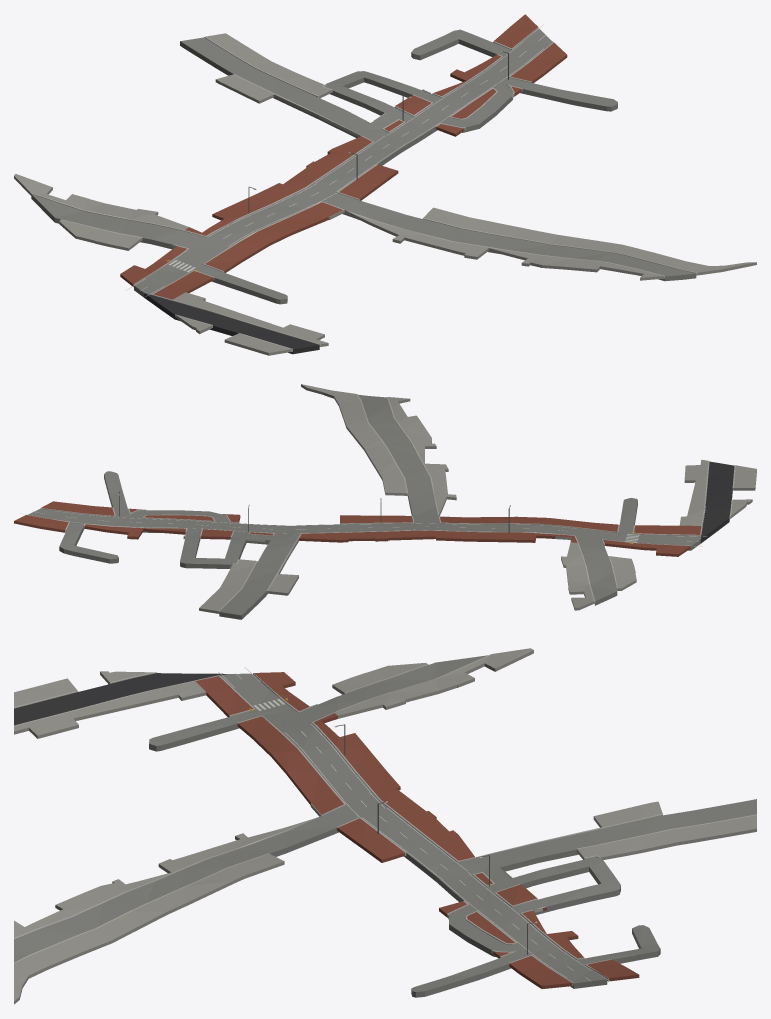
The picture shows the model from 3 angles, top to bottom: view 1: azimuth 30°, elevation 25°; view 2: azimuth 150°, elevation 25°; view 3: azimuth 270°, elevation 25°; orthographic projection. The views are drawn at different scales.
Size of the model in its own units: 152 by 15.87 by 146.
